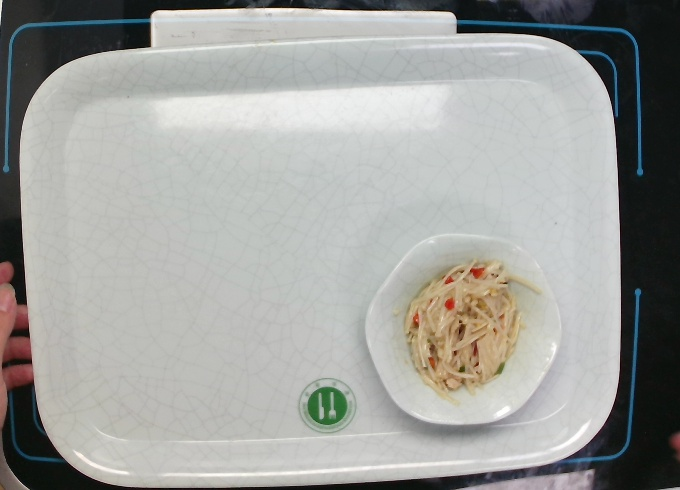WCQzf-Hua_Duo_Wan: (361, 228, 567, 429)
